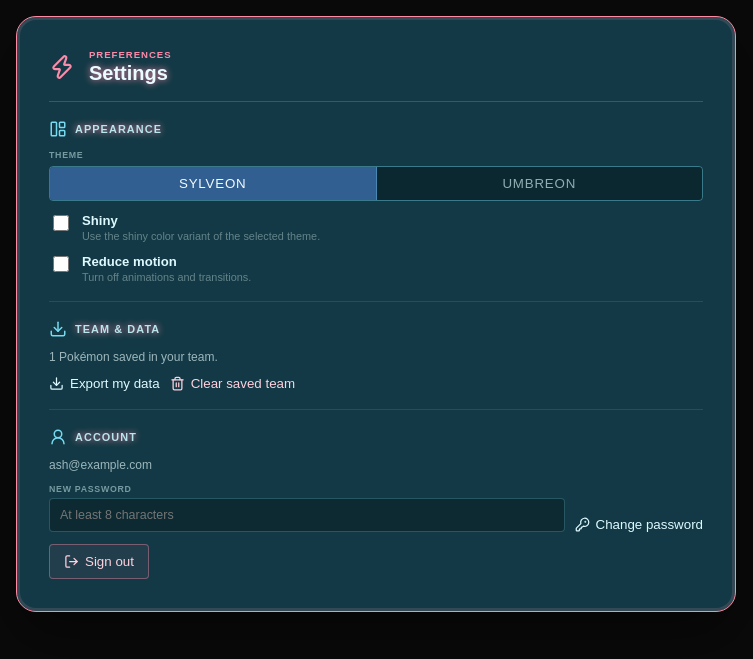
Test: SettingsPage › exports data to a downloaded file
Click the button "Export my data".
click(104, 384)  # box top-left (49, 376), bottom-right (160, 391)
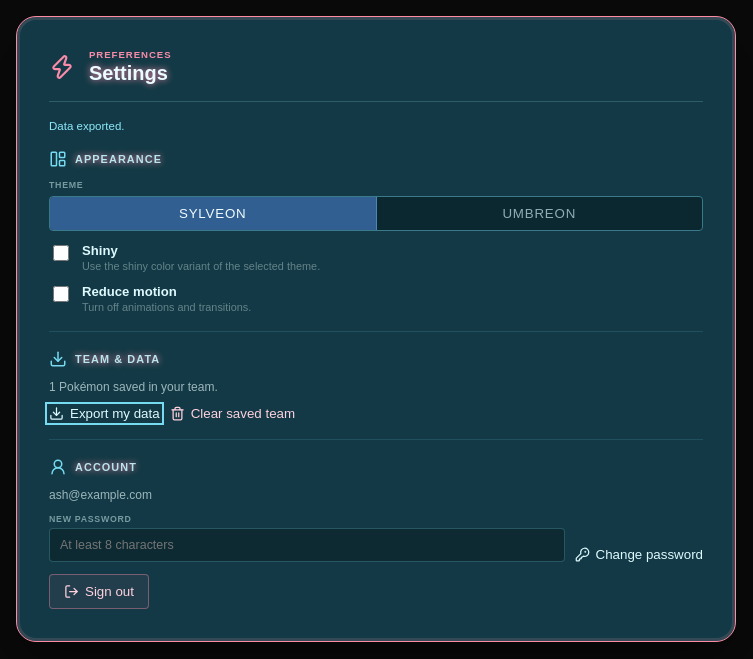
Expected: the text "Data exported." is shown, top-left (49, 120), bottom-right (124, 132)
